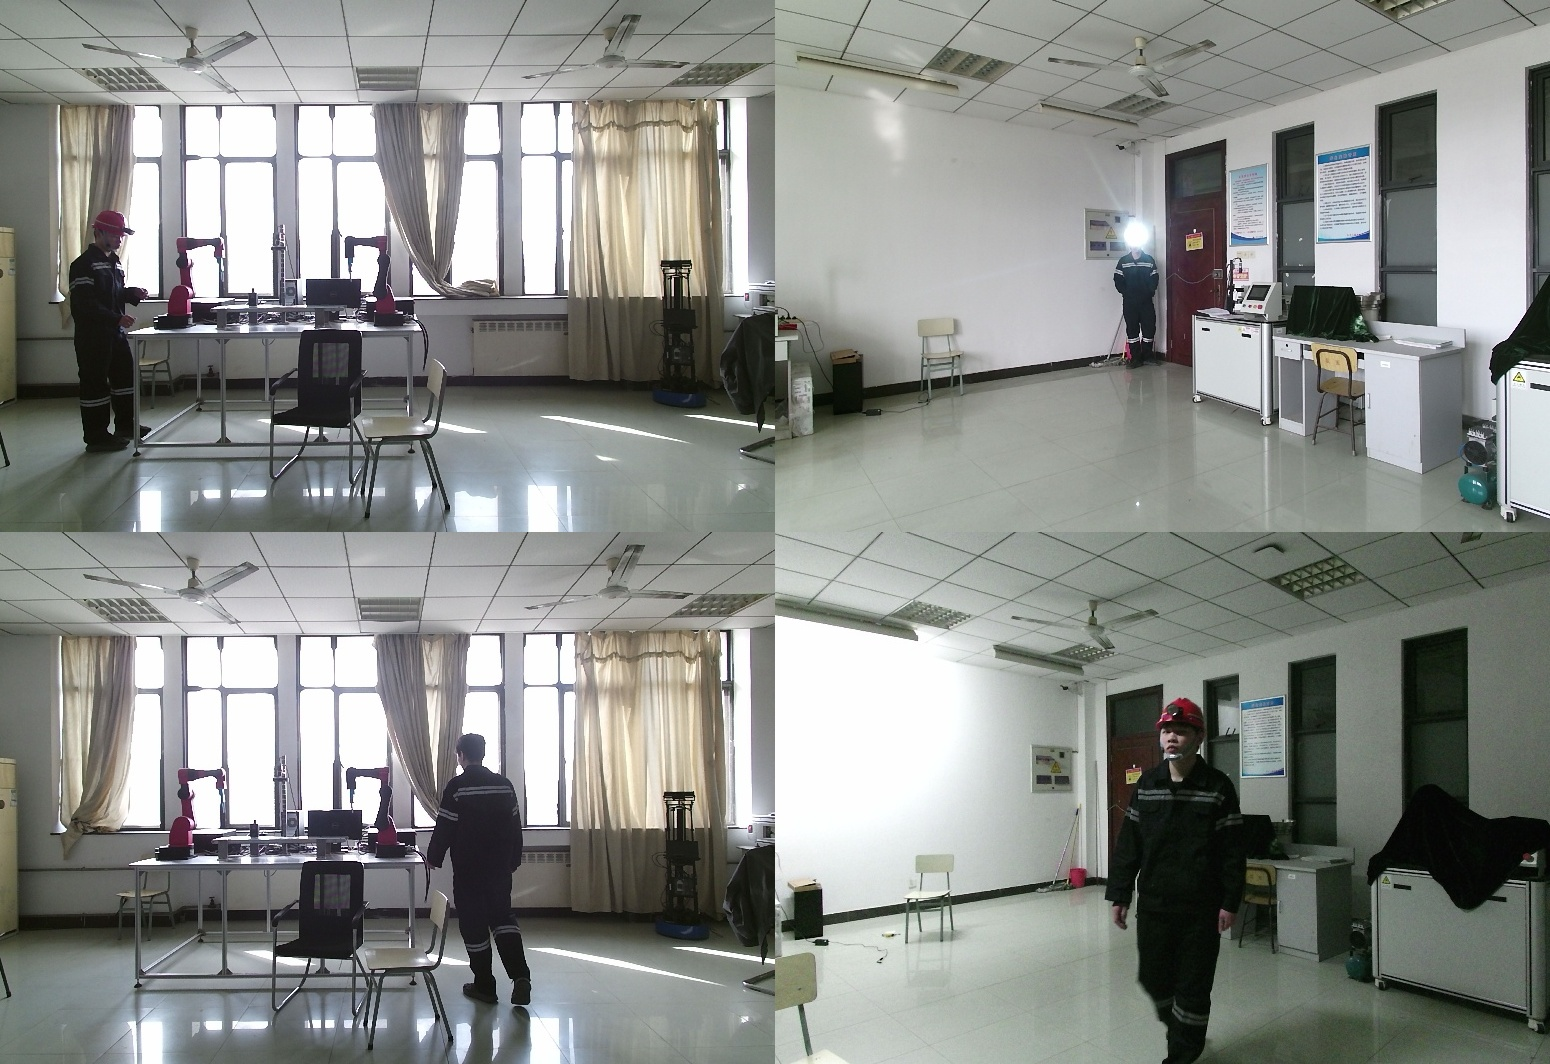person: (1104, 697, 1257, 1064), (432, 736, 538, 1006), (59, 210, 157, 458), (1114, 229, 1161, 367)
